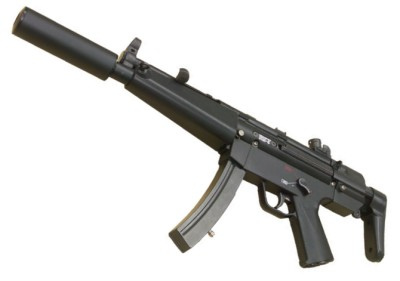rifle: (16, 3, 388, 262)
